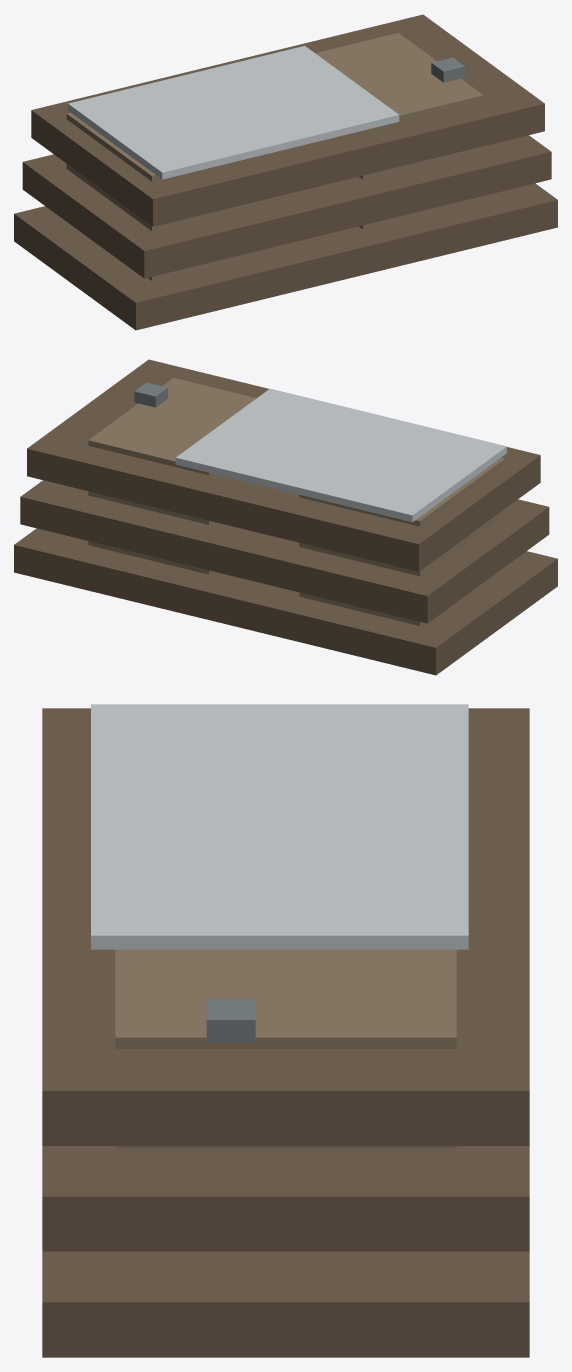
Rendered from door_pile.glb.
3 views of the same model, one above another, from view 1: azimuth 30°, elevation 25°; view 2: azimuth 150°, elevation 25°; view 3: azimuth 270°, elevation 25° (orthographic). The views are drawn at different scales.
Visible parts, largest first — view 1: door_pile; view 2: door_pile; view 3: door_pile.
Part boxes in pixels (<box>): door_pile: <box>14,14,557,330</box>; door_pile: <box>14,359,557,675</box>; door_pile: <box>42,704,529,1357</box>.
Bounding box in the file's own units: 2 × 0.65 × 1.
